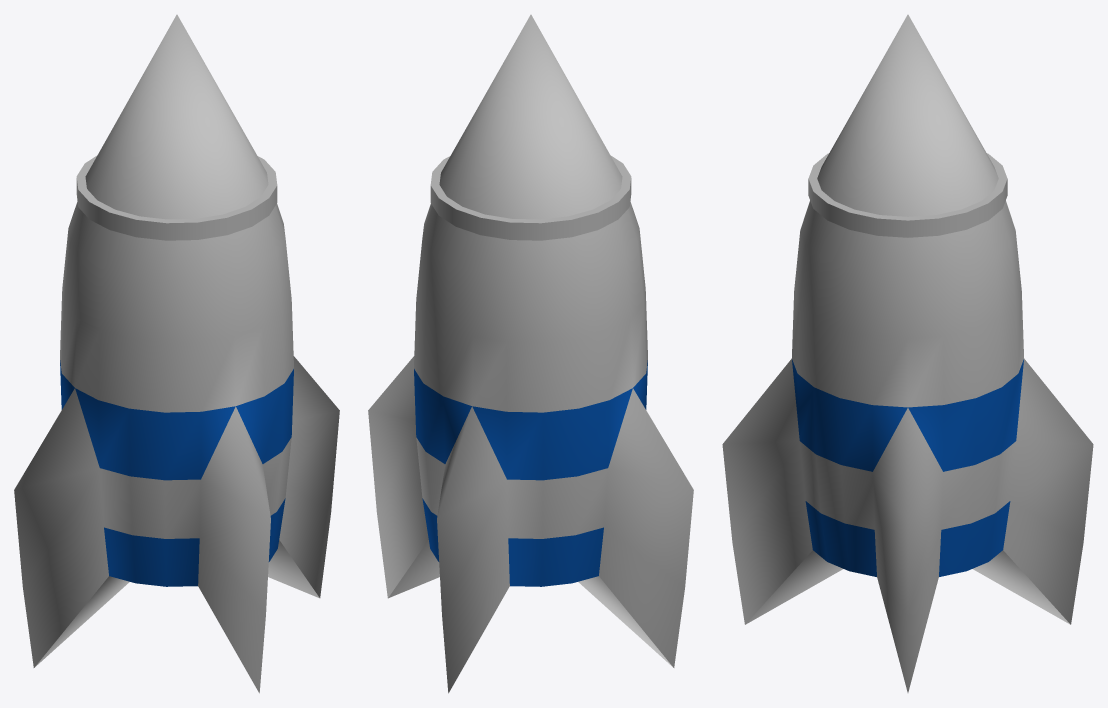
Rendered from Rocket.fbx.
3 renders of one model, left to right at view 1: azimuth 30°, elevation 25°; view 2: azimuth 150°, elevation 25°; view 3: azimuth 270°, elevation 25°, orthographic.
Visible parts, largest first — view 1: pCylinder1, pCone1; view 2: pCylinder1, pCone1; view 3: pCylinder1, pCone1.
Boxes of the visible parts, left/top/right/bottom form: pCylinder1: left=14, top=201, right=339, bottom=693; pCone1: left=76, top=14, right=277, bottom=240; pCylinder1: left=368, top=201, right=693, bottom=693; pCone1: left=430, top=14, right=631, bottom=240; pCylinder1: left=722, top=200, right=1093, bottom=692; pCone1: left=808, top=14, right=1007, bottom=237.
Size of the model in its own units: 4.09 by 7.43 by 4.09.
